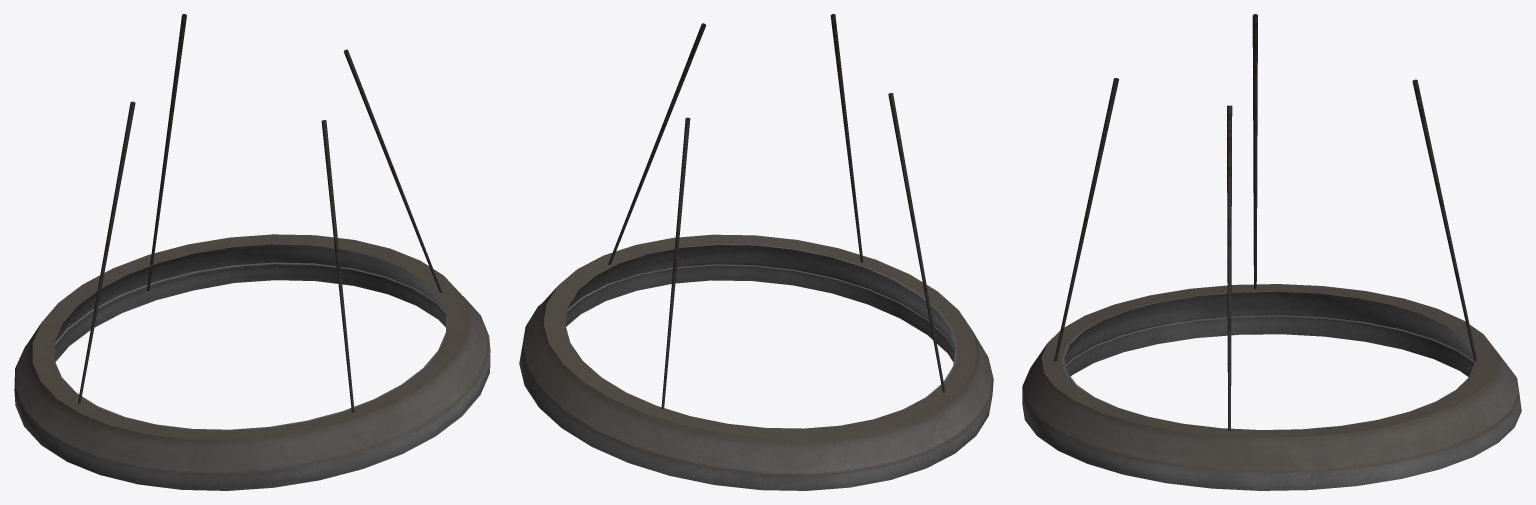
The model's file is SM_Light_02.fbx.
The picture shows the model from 3 angles, left to right: view 1: azimuth 30°, elevation 25°; view 2: azimuth 150°, elevation 25°; view 3: azimuth 270°, elevation 25°; orthographic projection. The views are drawn at different scales.
Visible parts, largest first — view 1: SM_Light_02_LOD0; view 2: SM_Light_02_LOD0; view 3: SM_Light_02_LOD0.
Boxes of the visible parts, x1,y1,x2,y2 form: SM_Light_02_LOD0: [14, 14, 490, 490]; SM_Light_02_LOD0: [519, 14, 993, 490]; SM_Light_02_LOD0: [1022, 14, 1521, 490].
Bounding box in the file's own units: 295 × 295 × 236.
